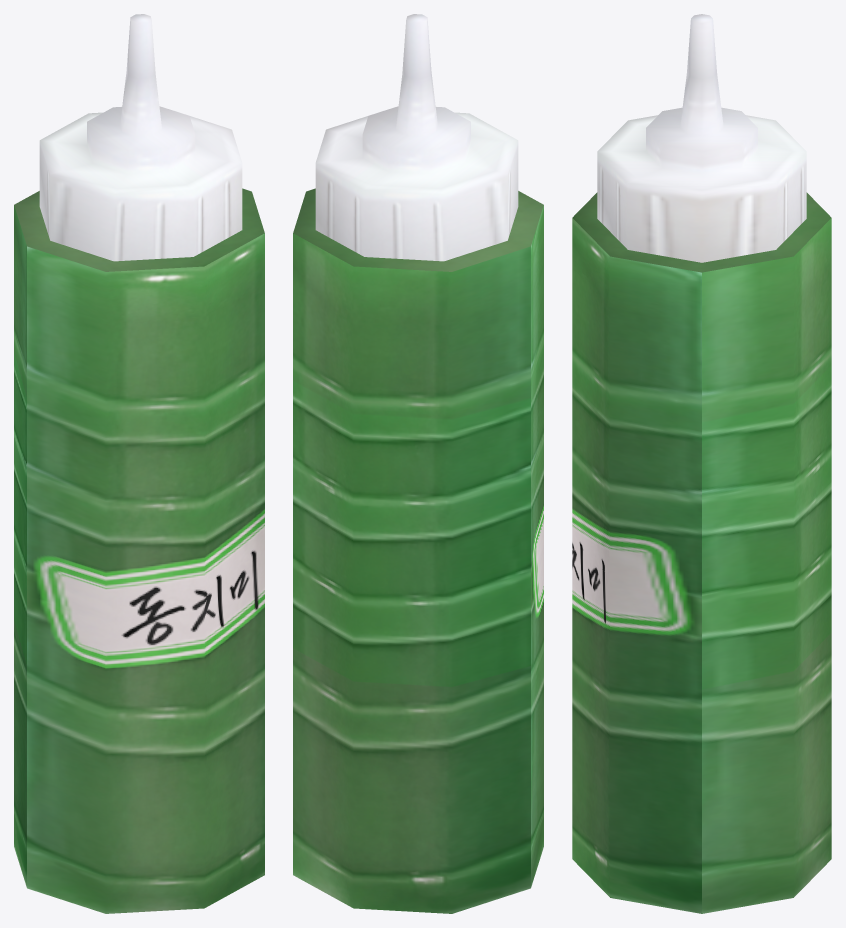
The model's file is sauce2.glb.
3 renders of one model, left to right at view 1: azimuth 30°, elevation 25°; view 2: azimuth 150°, elevation 25°; view 3: azimuth 270°, elevation 25°, orthographic.
Parts seen in each view (by area): view 1: Cylinder.006, Cylinder.004; view 2: Cylinder.006, Cylinder.004; view 3: Cylinder.006, Cylinder.004.
Part boxes in pixels (<box>): Cylinder.006: <box>14,188,264,913</box>; Cylinder.004: <box>39,14,242,261</box>; Cylinder.006: <box>293,188,543,913</box>; Cylinder.004: <box>315,14,518,261</box>; Cylinder.006: <box>572,192,831,913</box>; Cylinder.004: <box>597,14,806,262</box>.
Size of the model in its own units: 0.065 by 0.2326 by 0.065.
Materials: 2 (2 with a texture image).
